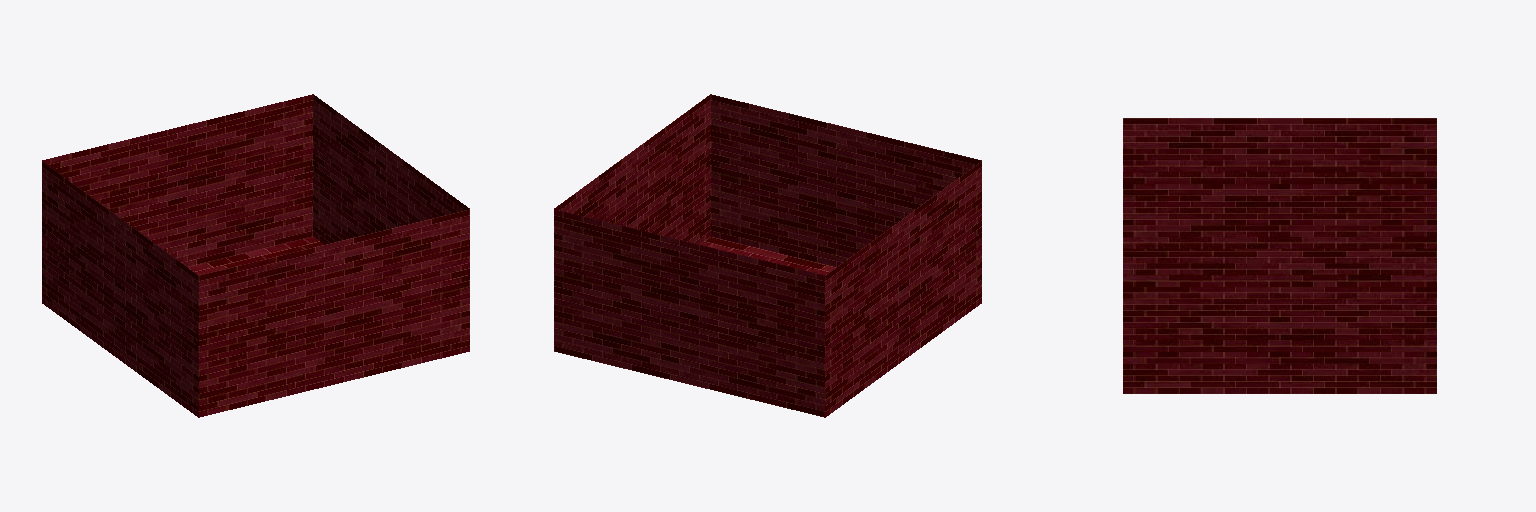
3 views of the same model, side by side, from view 1: azimuth 30°, elevation 25°; view 2: azimuth 150°, elevation 25°; view 3: azimuth 270°, elevation 25° (orthographic).
Parts seen in each view (by area): view 1: Mesh.001_Cube.002; view 2: Mesh.001_Cube.002; view 3: Mesh.001_Cube.002.
Part boxes in pixels (x1,y1,x2,y2): Mesh.001_Cube.002: (42,94,469,417); Mesh.001_Cube.002: (554,94,981,417); Mesh.001_Cube.002: (1123,118,1436,393).
Bounding box in the file's own units: 8 × 4 × 8.
Materials: 2 (2 with a texture image).